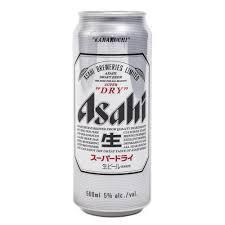beer: (70, 11, 154, 217)
